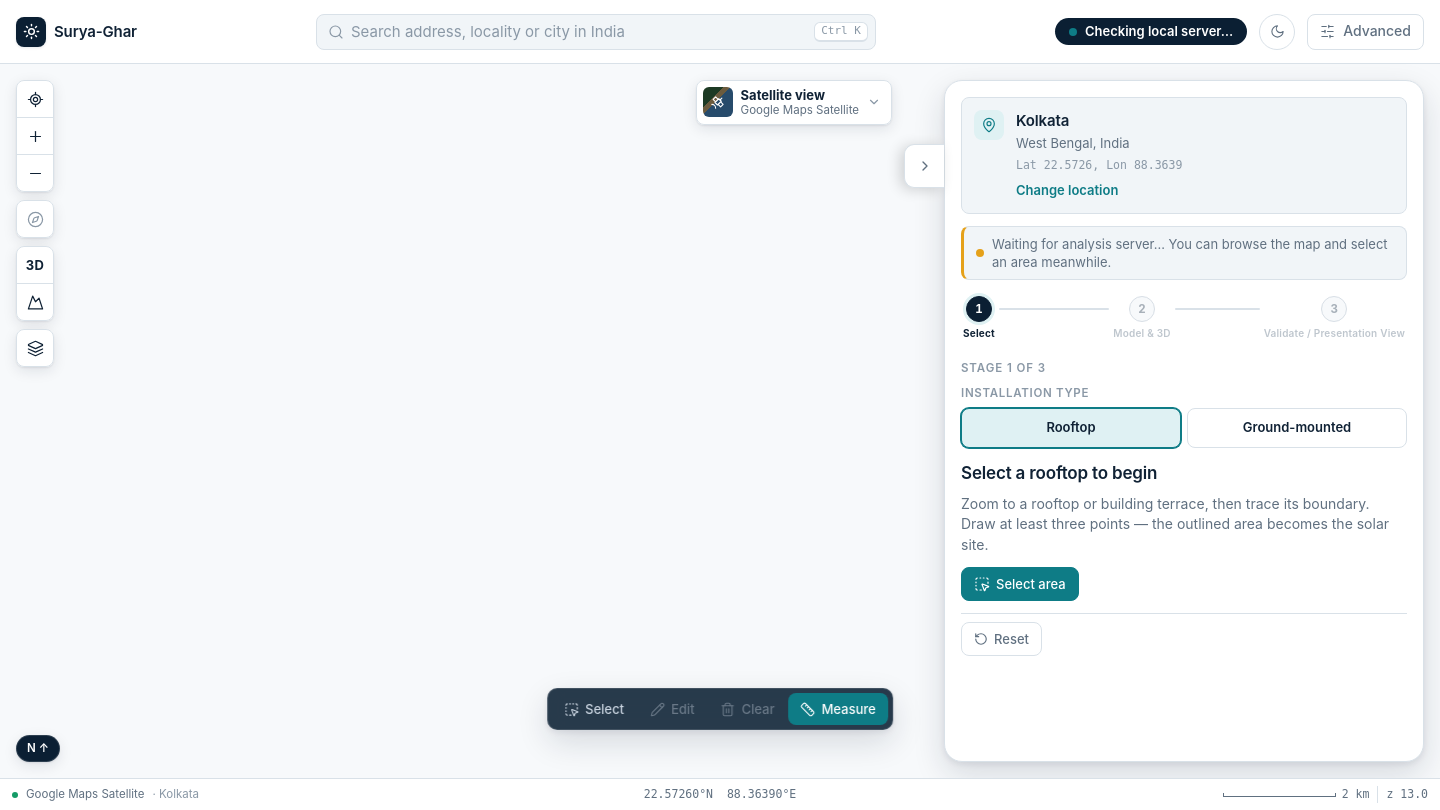
Test: App workspace › starts satellite-first with roads and buildings off
The image size is (1440, 810).
Click the button named "Map layers" at (35, 348), box top-left (17, 330), bottom-right (53, 366)
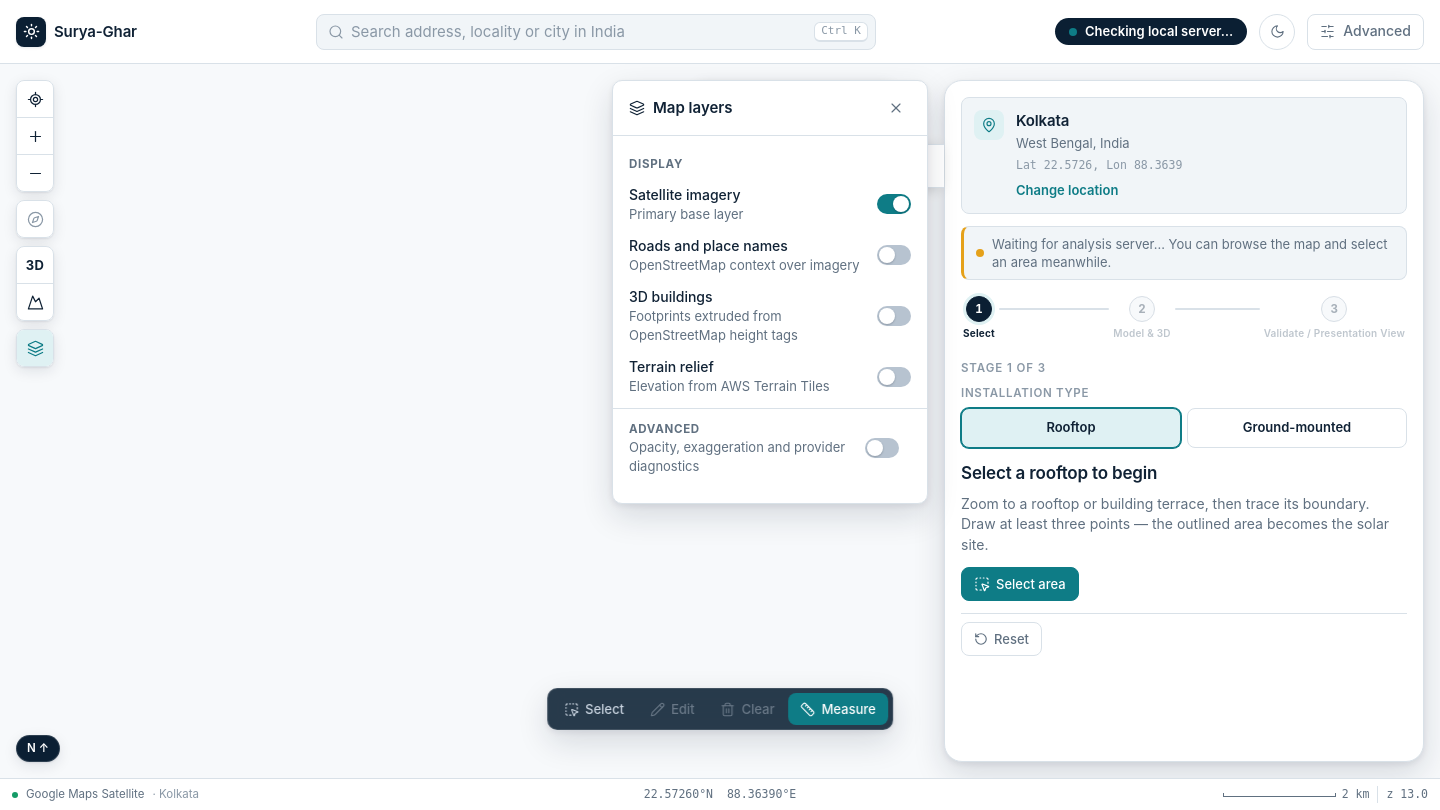
Result: the 1st checkbox labelled "Satellite imagery" is checked at top-left (629, 185), bottom-right (911, 224)
Result: the 1st checkbox labelled "Roads and place names" is not checked at top-left (629, 236), bottom-right (911, 275)
Result: the 1st checkbox labelled "3D buildings" is not checked at top-left (629, 287), bottom-right (911, 345)
